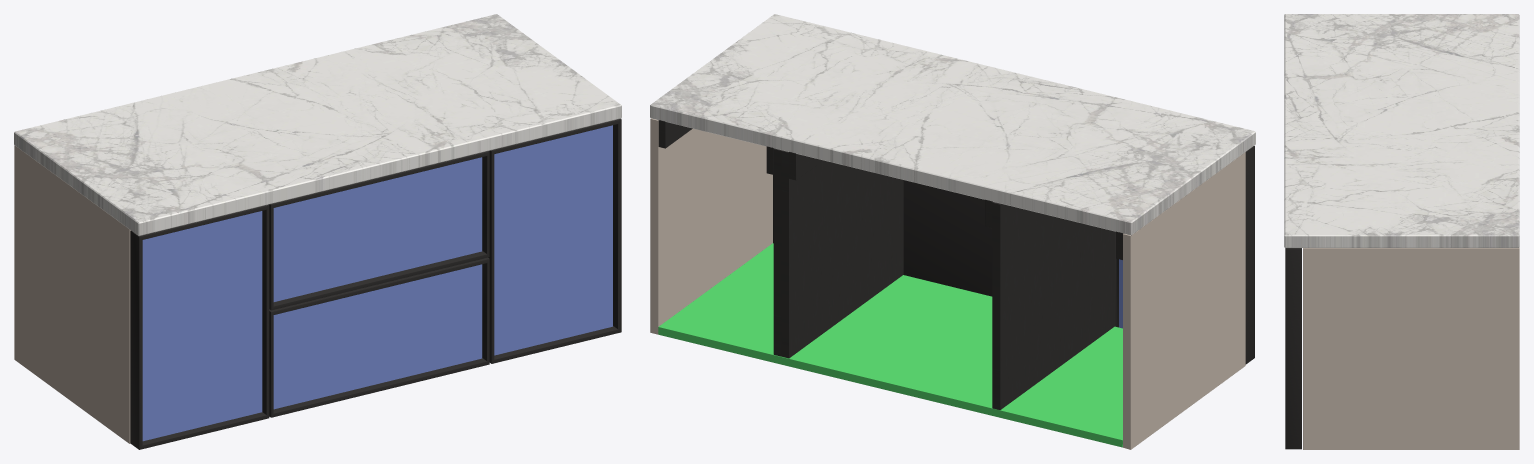
3 views of the same model, side by side, from view 1: azimuth 30°, elevation 25°; view 2: azimuth 150°, elevation 25°; view 3: azimuth 270°, elevation 25° (orthographic). The views are drawn at different scales.
Visible parts, largest first — view 1: AT08; view 2: AT08; view 3: AT08.
Boxes of the visible parts, x1,y1,x2,y2 form: AT08: (14, 14, 621, 449); AT08: (650, 14, 1255, 449); AT08: (1284, 14, 1519, 449).
Size of the model in its own units: 1.09 by 0.4933 by 0.4893.
Materials: 5 (4 with a texture image).
